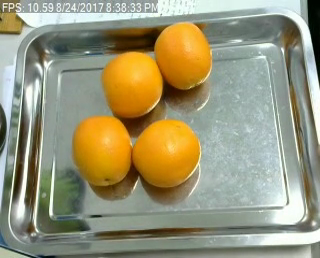Orange: (131, 118, 200, 186), (100, 50, 164, 116), (71, 115, 132, 184), (154, 20, 212, 89)
